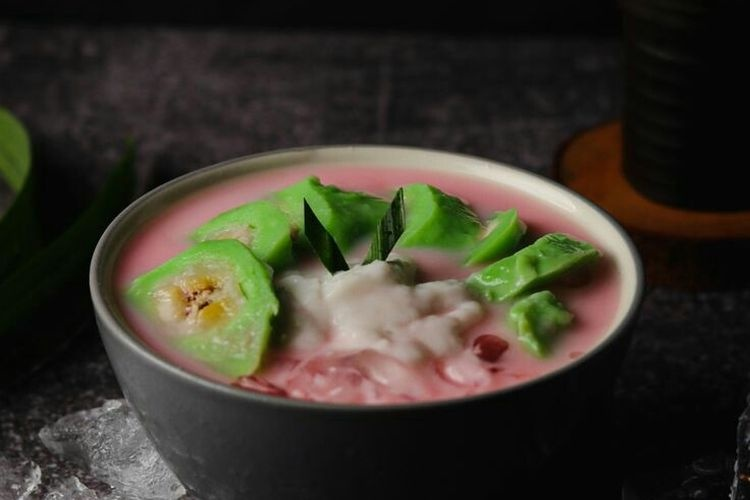pisang_ijo: (127, 250, 296, 370)
